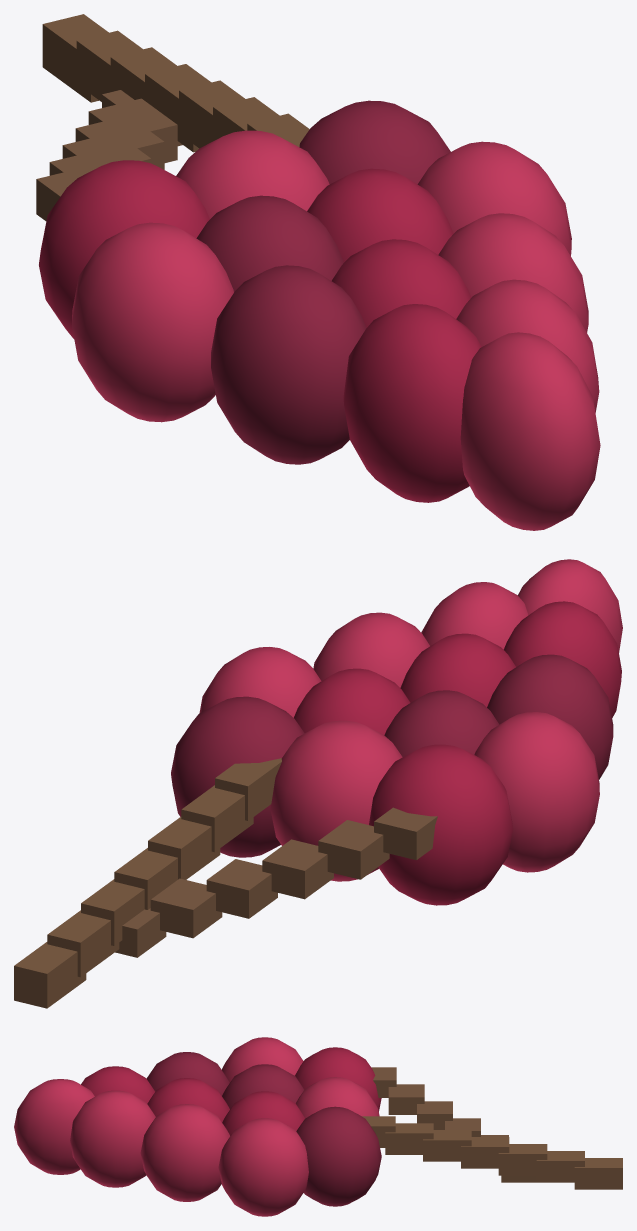
File: CMU3DRedGrapeBunch.glb
The picture shows the model from 3 angles, top to bottom: view 1: azimuth 30°, elevation 25°; view 2: azimuth 150°, elevation 25°; view 3: azimuth 270°, elevation 25°; orthographic projection. The views are drawn at different scales.
Visible parts, largest first — view 1: red grape (×13), grape brown stem (×7), forked grape stem (×5); view 2: red grape (×13), grape brown stem (×7), forked grape stem (×6); view 3: red grape (×13), grape brown stem (×7), forked grape stem (×5).
Boxes of the visible parts, box(x1,y1,x2,y2) form: red grape (×13): box(39, 100, 600, 530); grape brown stem (×7): box(42, 14, 309, 152); forked grape stem (×5): box(36, 98, 177, 220); red grape (×13): box(171, 559, 622, 905); grape brown stem (×7): box(14, 758, 281, 1008); forked grape stem (×6): box(115, 807, 437, 957); red grape (×13): box(14, 1037, 381, 1216); grape brown stem (×7): box(362, 1116, 622, 1189); forked grape stem (×5): box(371, 1067, 536, 1182).
Size of the model in its own units: 0.2537 by 0.094 by 0.5629.
